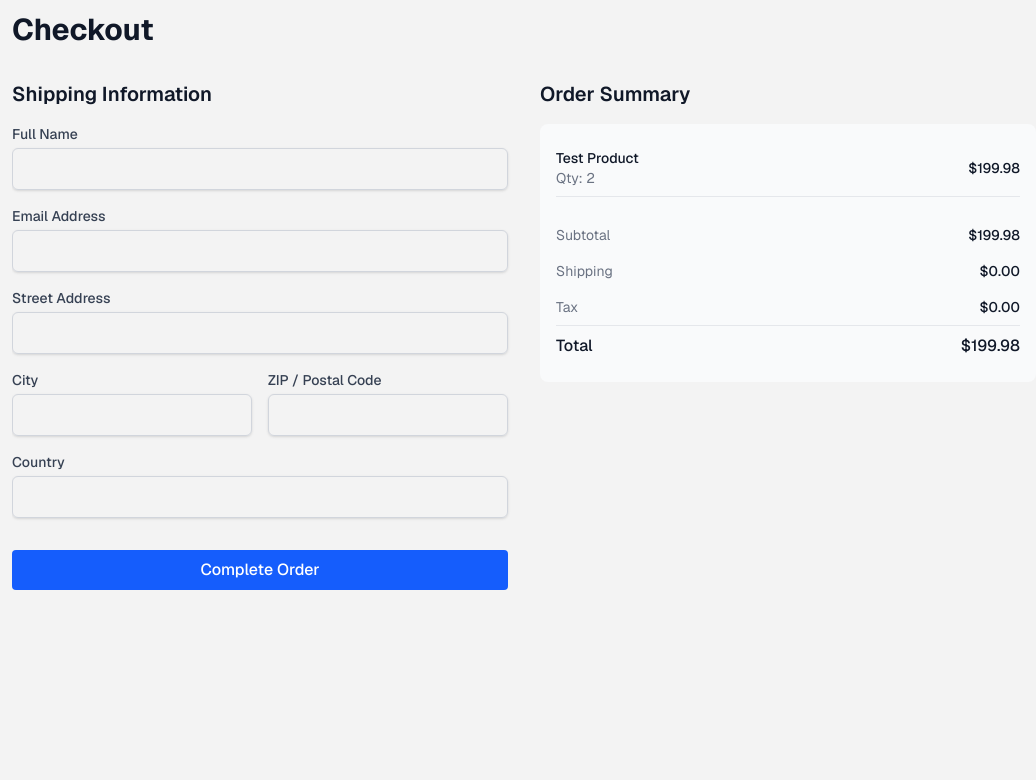
Test: CheckoutPage Component › shows validation errors when submitting empty form
The width and height of the screenshot is (1036, 780).
Expected: the form is shown, x1=12 y1=124 x2=508 y2=590
Note: Submit the form
What coordinates should you click on to do the following:
click the button "Complete Order"
I would click on:
 (260, 570)
Its box is x1=12 y1=550 x2=508 y2=590.
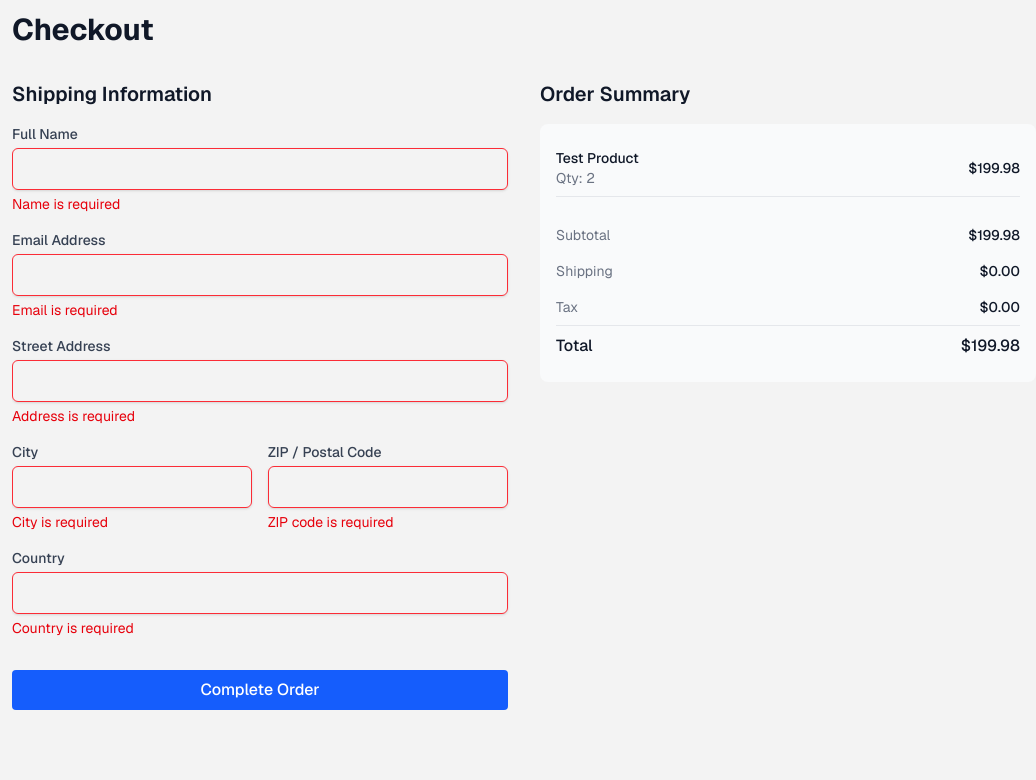
Now the text "Name is required" is shown, box x1=12 y1=195 x2=120 y2=213
Now the text "Email is required" is shown, box x1=12 y1=301 x2=118 y2=319
Now the text "Address is required" is shown, box x1=12 y1=407 x2=135 y2=425
